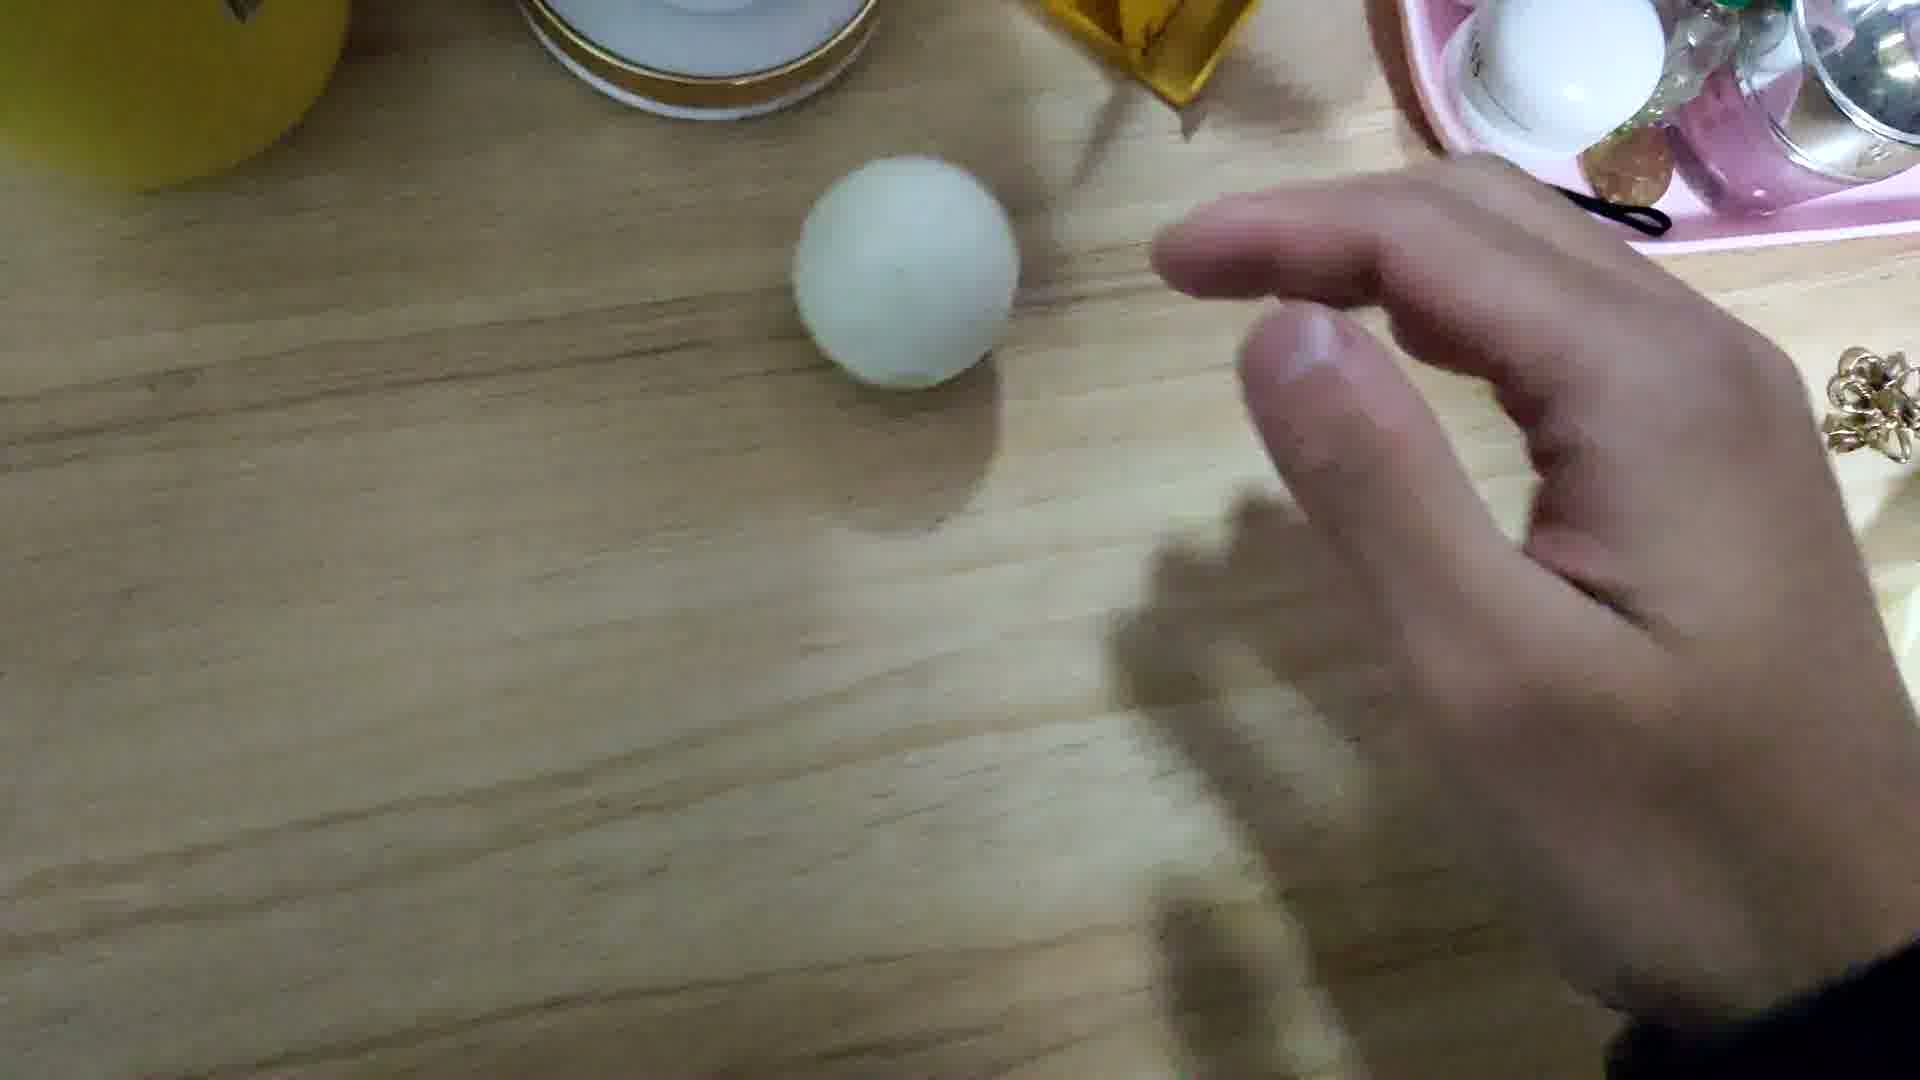Ball: (789, 153, 1022, 392)
